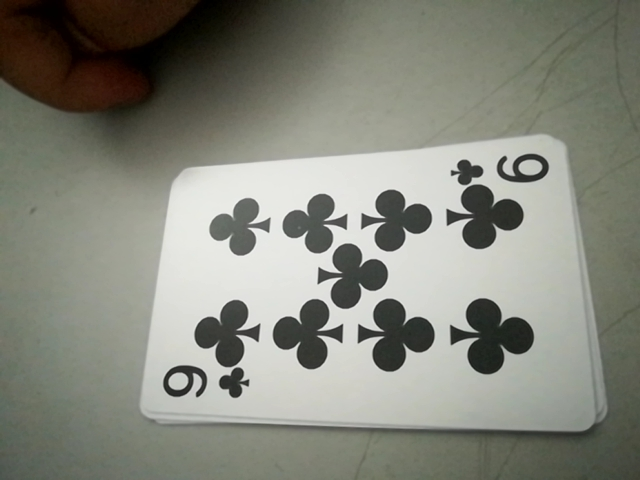mh 9: (153, 359, 253, 412), (447, 147, 554, 190)
